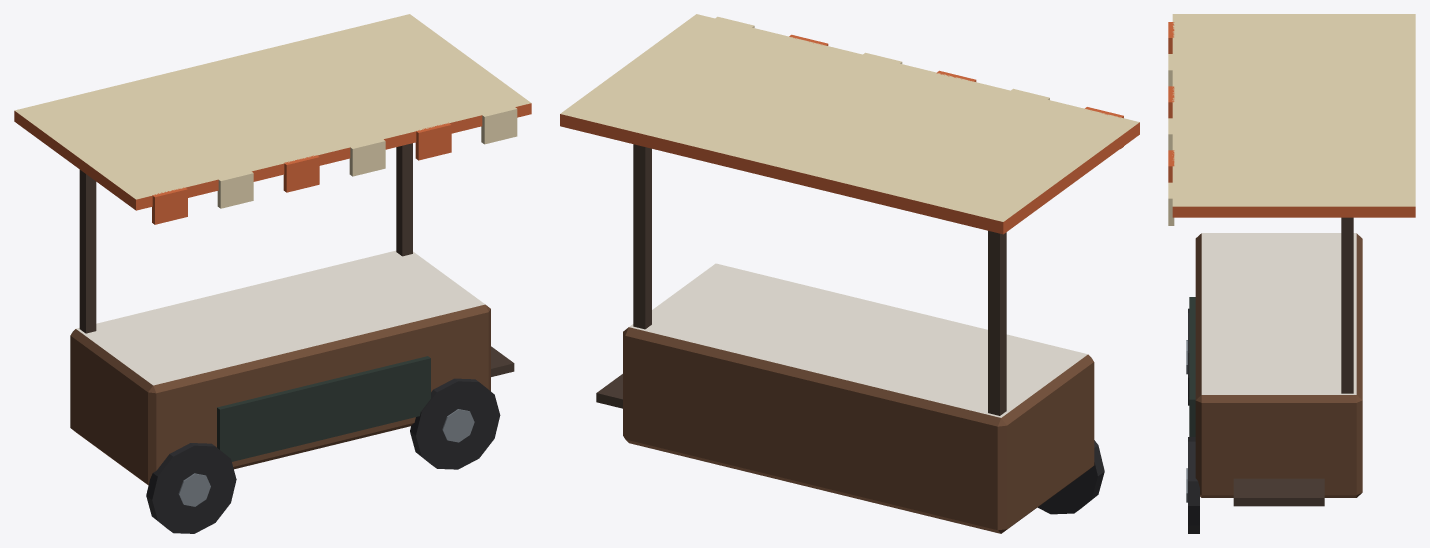
File: cart.fbx
3 views of the same model, side by side, from view 1: azimuth 30°, elevation 25°; view 2: azimuth 150°, elevation 25°; view 3: azimuth 270°, elevation 25° (orthographic). The views are drawn at different scales.
Visible parts, largest first — view 1: cart; view 2: cart; view 3: cart.
Part boxes in pixels (<box>): cart: <box>14,14,531,533</box>; cart: <box>560,14,1139,533</box>; cart: <box>1168,14,1415,533</box>.
Bounding box in the file's own units: 3.1 × 2.58 × 1.63.
